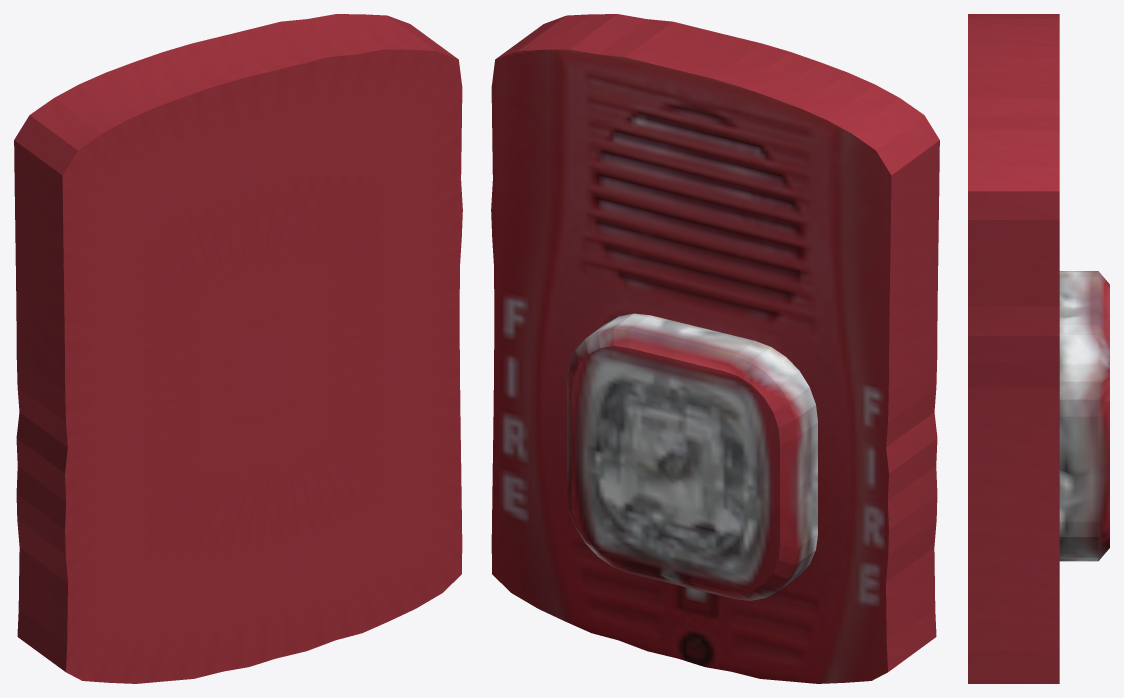
Rendered from systemsensor_sa_lf_hornstrobe.obj.
3 views of the same model, side by side, from view 1: azimuth 30°, elevation 25°; view 2: azimuth 150°, elevation 25°; view 3: azimuth 270°, elevation 25° (orthographic). The views are drawn at different scales.
Parts seen in each view (by area): view 1: sa_lf_hornstrobe; view 2: sa_lf_hornstrobe; view 3: sa_lf_hornstrobe.
Part boxes in pixels (left/top/right/bottom): sa_lf_hornstrobe: left=14, top=14, right=462, bottom=683; sa_lf_hornstrobe: left=491, top=14, right=939, bottom=683; sa_lf_hornstrobe: left=968, top=14, right=1109, bottom=683.
Bounding box in the file's own units: 0.5963 × 0.8403 × 0.1938.
